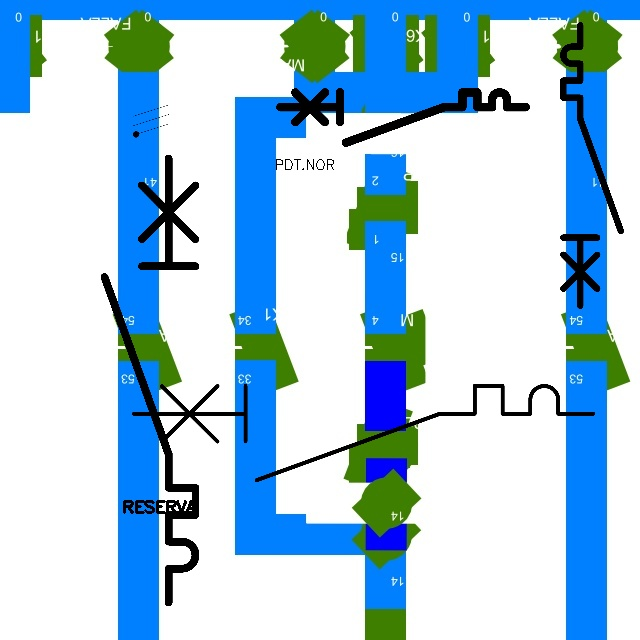interruptor_termomagnetico: (122, 374, 605, 492), (93, 146, 207, 613), (556, 18, 628, 313), (274, 86, 532, 149)
